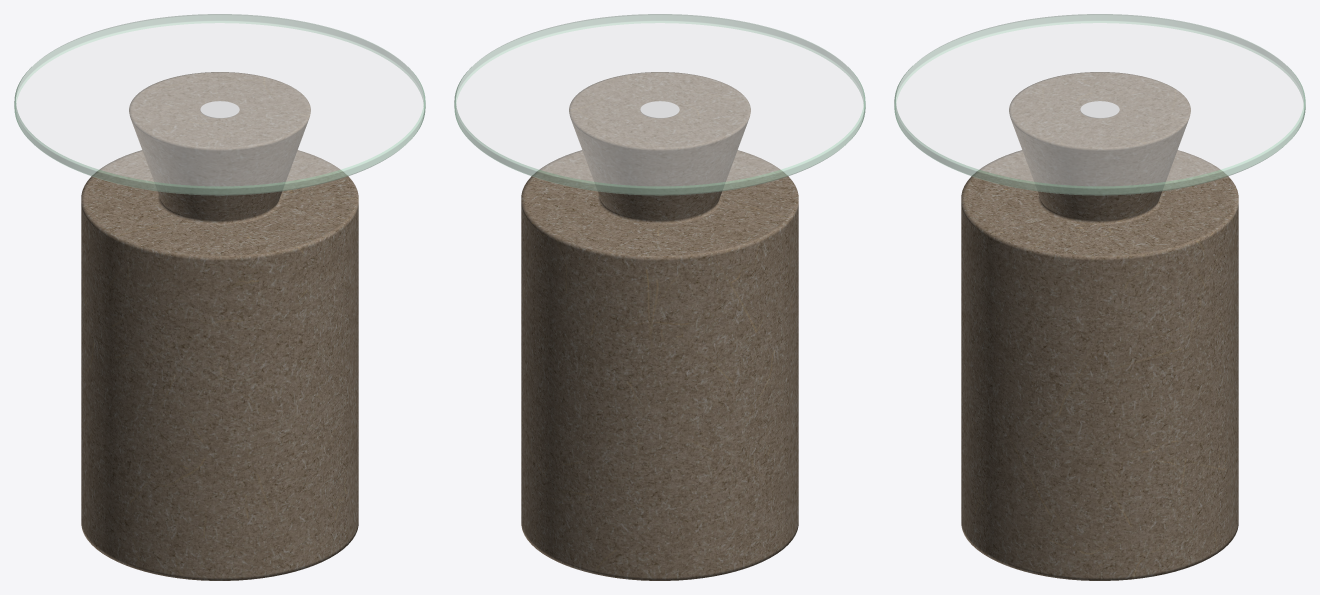
3 views of the same model, side by side, from view 1: azimuth 30°, elevation 25°; view 2: azimuth 150°, elevation 25°; view 3: azimuth 270°, elevation 25° (orthographic).
Parts seen in each view (by area): view 1: coffeetable57803; view 2: coffeetable57803; view 3: coffeetable57803.
Part boxes in pixels (left/top/right/bottom): coffeetable57803: left=14, top=14, right=425, bottom=580; coffeetable57803: left=454, top=14, right=865, bottom=580; coffeetable57803: left=894, top=14, right=1305, bottom=580.
Bounding box in the file's own units: 0.45 × 0.51 × 0.45.
3 materials, 1 textured.
